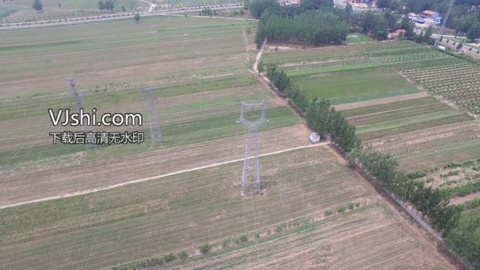tower_body: (232, 98, 274, 200), (139, 85, 166, 148)
tower_foot: (238, 169, 264, 196)
tower_head: (236, 100, 271, 128)
